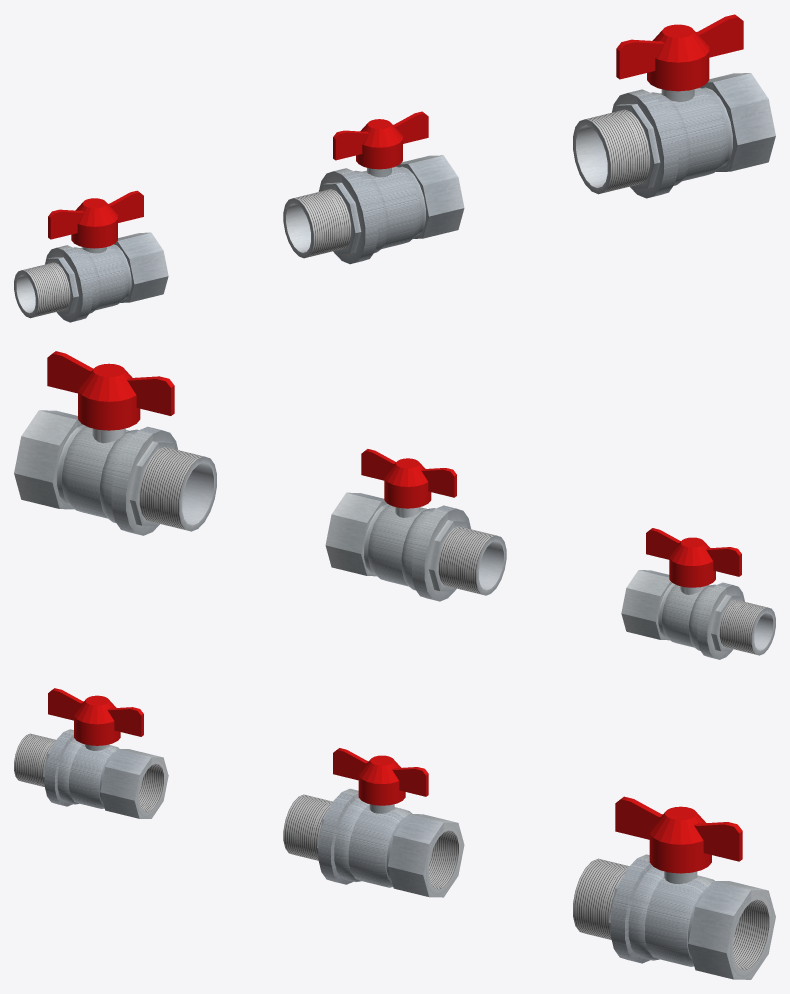
The model's file is kran1.FBX.
3 renders of one model, top to bottom at view 1: azimuth 30°, elevation 25°; view 2: azimuth 150°, elevation 25°; view 3: azimuth 330°, elevation 25°, orthographic.
Visible parts, largest first — view 1: kran_nr_vn_1, kran_nr_vn_3/4, kran_nr_vn_1/2; view 2: kran_nr_vn_1, kran_nr_vn_3/4, kran_nr_vn_1/2; view 3: kran_nr_vn_1, kran_nr_vn_3/4, kran_nr_vn_1/2.
Boxes of the visible parts, bbox=[...] form: kran_nr_vn_1: bbox=[573, 14, 775, 198]; kran_nr_vn_3/4: bbox=[283, 111, 464, 264]; kran_nr_vn_1/2: bbox=[14, 190, 168, 322]; kran_nr_vn_1: bbox=[14, 351, 216, 535]; kran_nr_vn_3/4: bbox=[325, 449, 506, 601]; kran_nr_vn_1/2: bbox=[621, 528, 775, 659]; kran_nr_vn_1: bbox=[573, 796, 775, 979]; kran_nr_vn_3/4: bbox=[283, 748, 464, 897]; kran_nr_vn_1/2: bbox=[14, 688, 168, 818].
Bounding box in the file's own units: 14.32 × 2.93 × 1.82.
3 materials, 2 textured.
